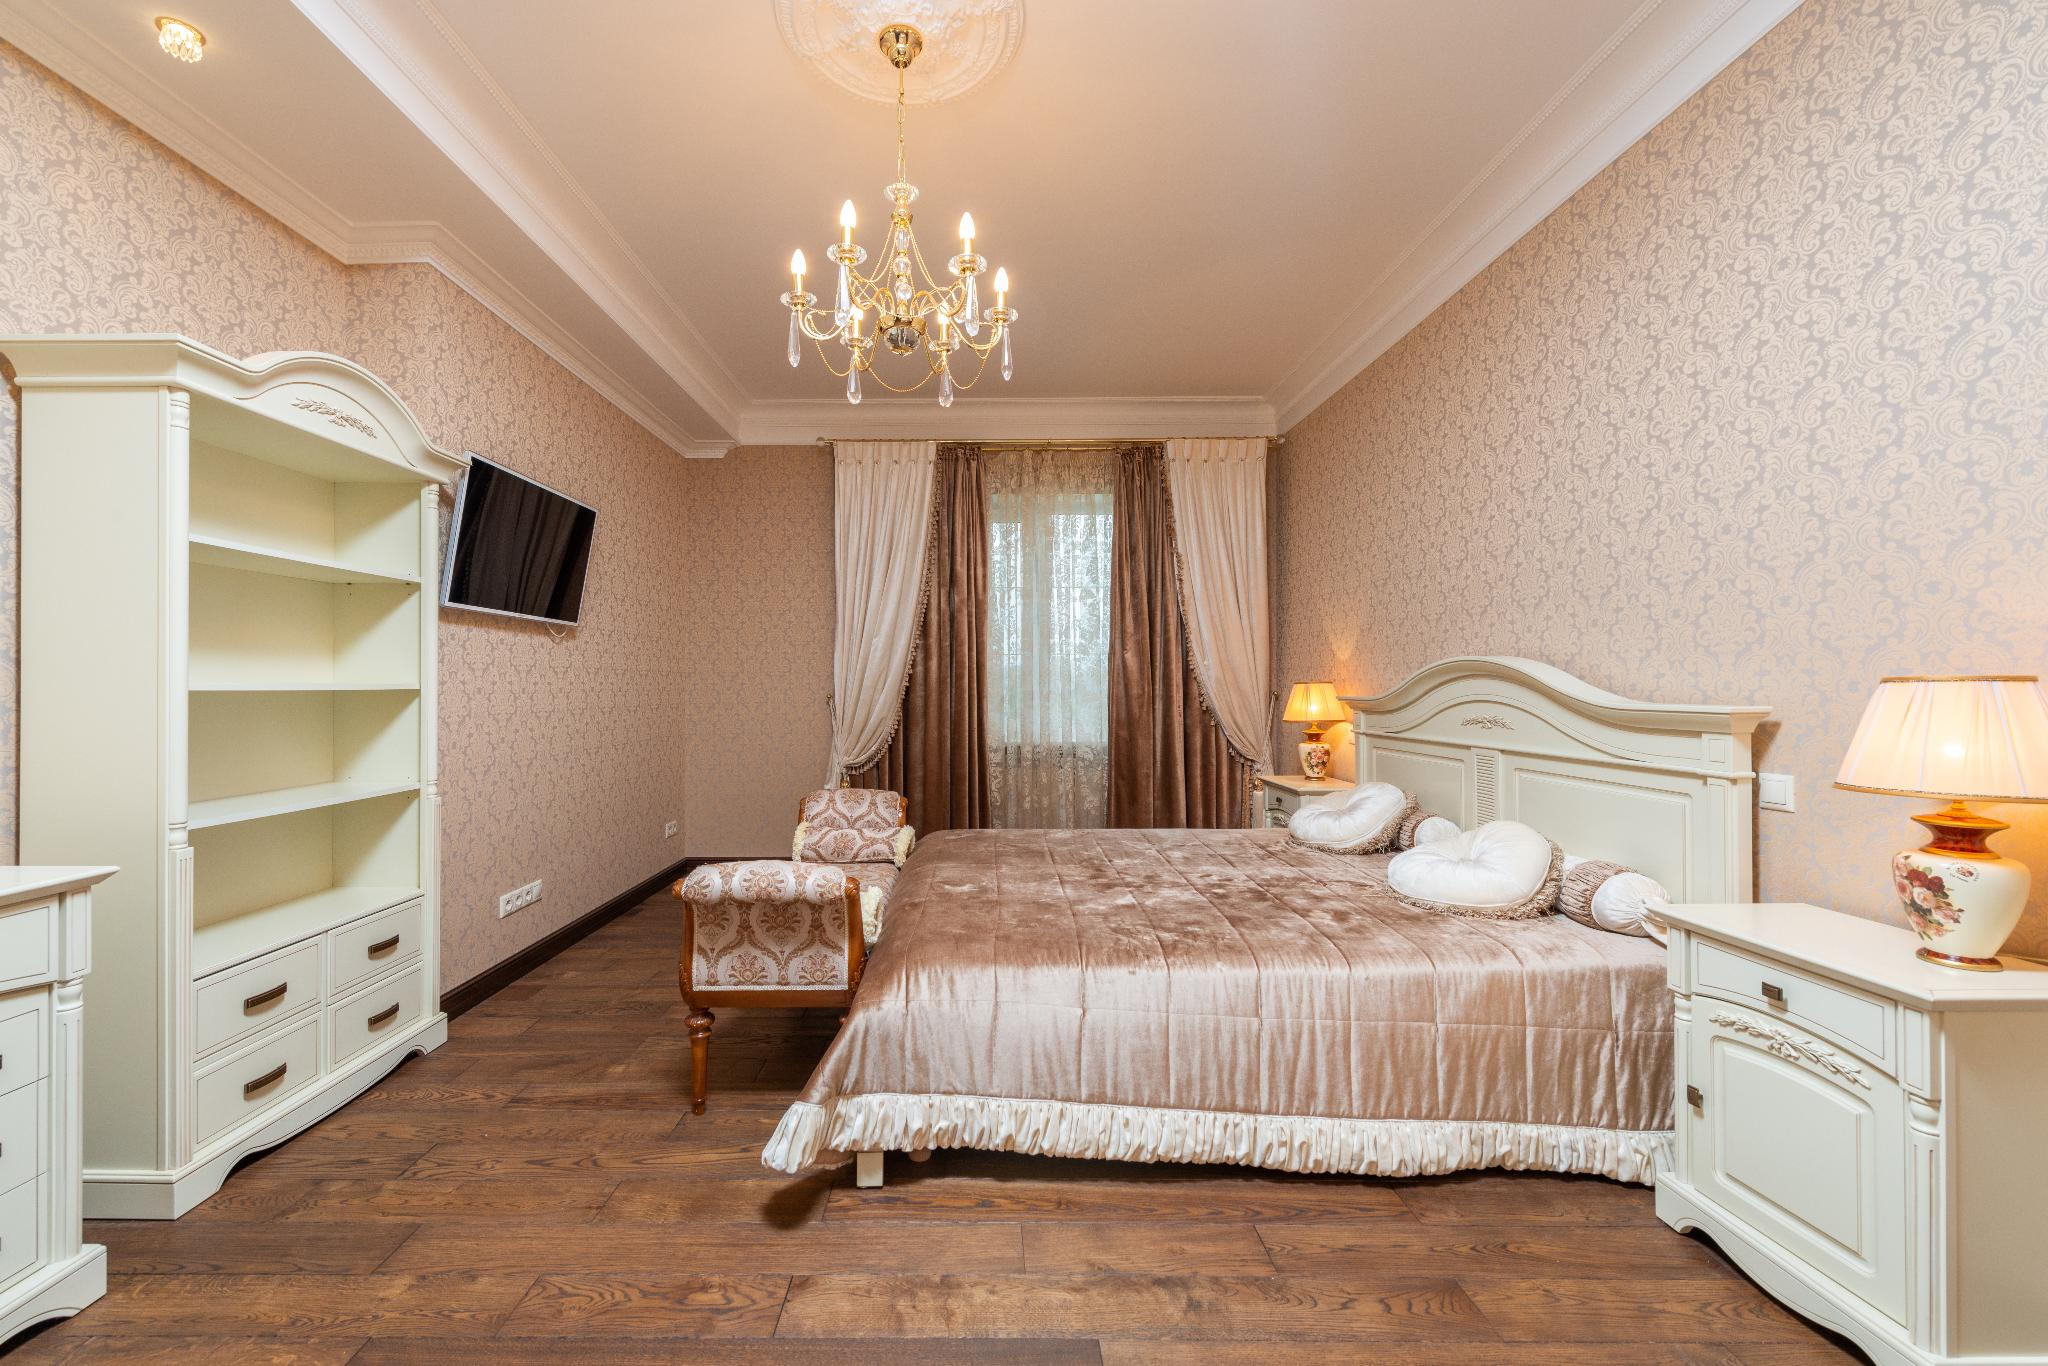1: (1269, 0, 2048, 933), (428, 264, 687, 1024), (0, 38, 344, 361), (686, 445, 835, 875), (343, 264, 433, 444), (0, 352, 21, 866), (1265, 442, 1277, 700)
Floor: (0, 878, 1874, 1366)
